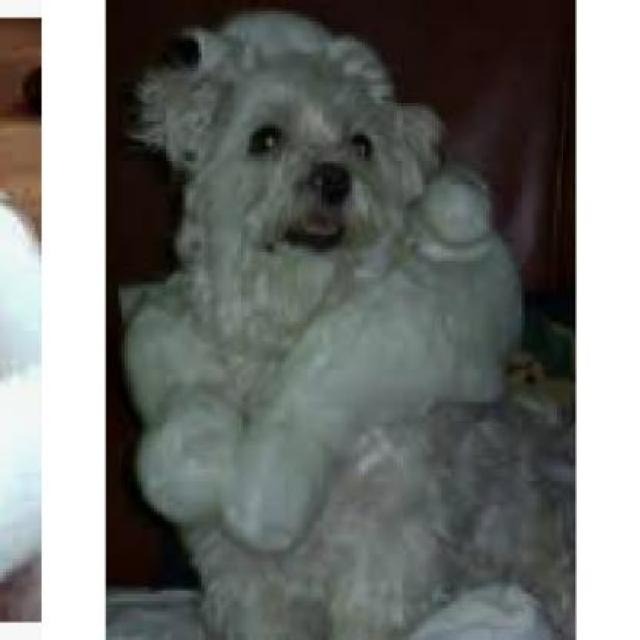Dog: (125, 35, 566, 637)
